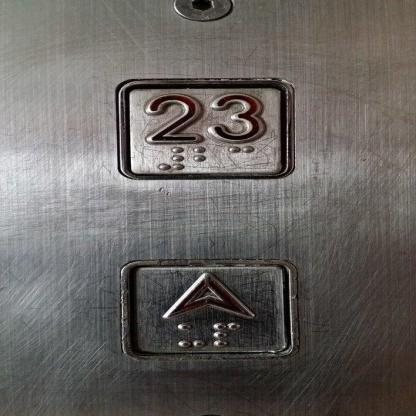23: (110, 76, 299, 183)
up: (114, 257, 303, 363)
